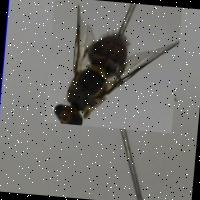Oriental-fruit-fly: (44, 0, 182, 132)
